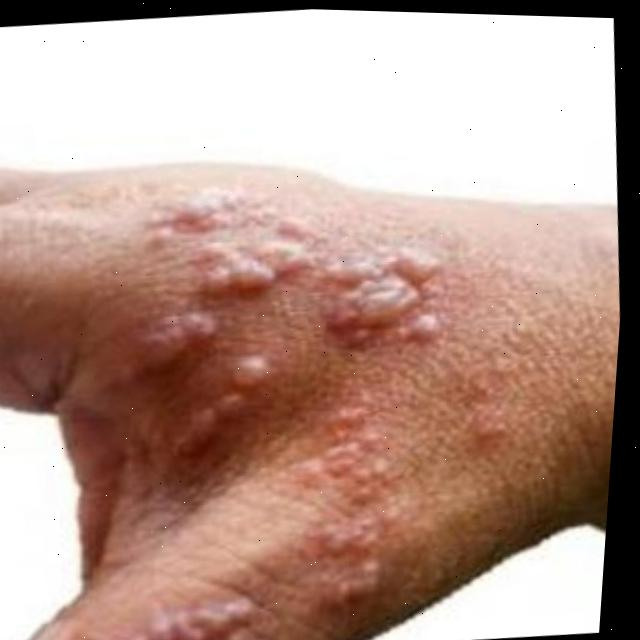Shingles: (52, 172, 472, 640)
